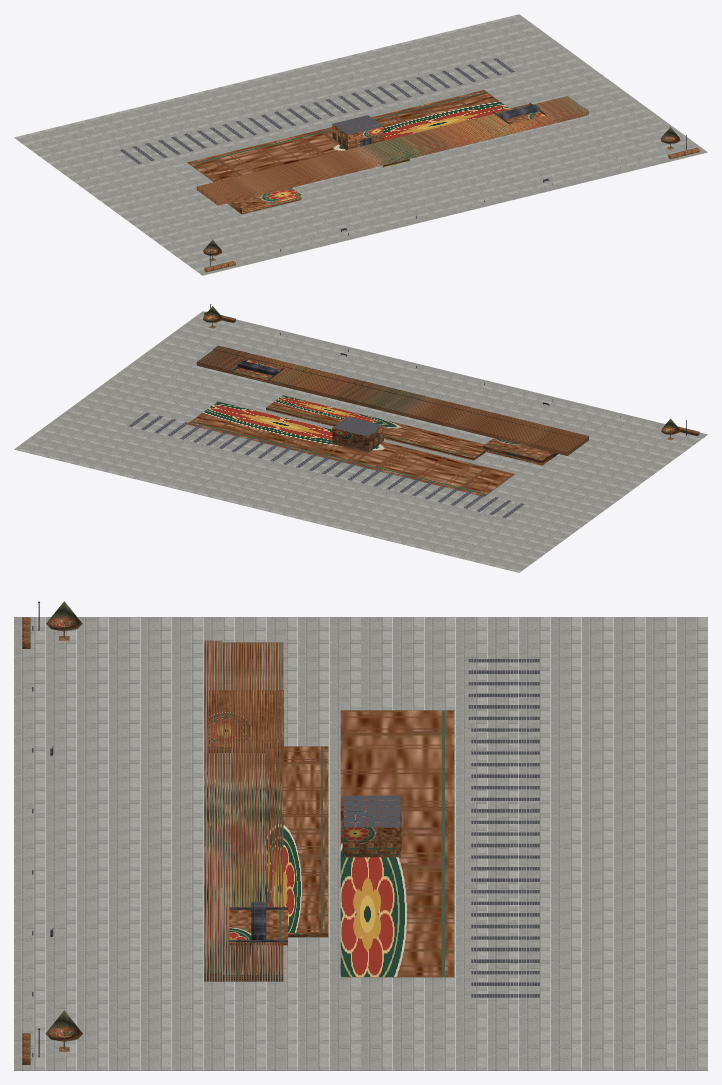
The picture shows the model from 3 angles, top to bottom: view 1: azimuth 30°, elevation 25°; view 2: azimuth 150°, elevation 25°; view 3: azimuth 270°, elevation 25°; orthographic projection. The views are drawn at different scales.
Visible parts, largest first — view 1: 11710_01_05547_046_01__plinth_ground_base, 11710_01_05547_046_02__mass_body_facade, 11710_01_05547_046_03__roof_deck_structure, 11710_01_05547_046_06__landscape_greenery; view 2: 11710_01_05547_046_01__plinth_ground_base, 11710_01_05547_046_02__mass_body_facade, 11710_01_05547_046_03__roof_deck_structure, 11710_01_05547_046_06__landscape_greenery; view 3: 11710_01_05547_046_01__plinth_ground_base, 11710_01_05547_046_02__mass_body_facade, 11710_01_05547_046_03__roof_deck_structure, 11710_01_05547_046_06__landscape_greenery, 11710_01_05547_046_03__roof_metal_ornament.
Part boxes in pixels (left/top/right/bottom): 11710_01_05547_046_01__plinth_ground_base: left=14, top=14, right=707, bottom=275; 11710_01_05547_046_02__mass_body_facade: left=187, top=90, right=588, bottom=214; 11710_01_05547_046_03__roof_deck_structure: left=119, top=58, right=514, bottom=164; 11710_01_05547_046_06__landscape_greenery: left=203, top=127, right=699, bottom=272; 11710_01_05547_046_01__plinth_ground_base: left=14, top=311, right=707, bottom=572; 11710_01_05547_046_02__mass_body_facade: left=188, top=345, right=588, bottom=496; 11710_01_05547_046_03__roof_deck_structure: left=128, top=412, right=524, bottom=518; 11710_01_05547_046_06__landscape_greenery: left=203, top=306, right=699, bottom=440; 11710_01_05547_046_01__plinth_ground_base: left=14, top=617, right=707, bottom=1070; 11710_01_05547_046_02__mass_body_facade: left=204, top=640, right=454, bottom=981; 11710_01_05547_046_03__roof_deck_structure: left=344, top=659, right=539, bottom=997; 11710_01_05547_046_06__landscape_greenery: left=22, top=601, right=82, bottom=1064; 11710_01_05547_046_03__roof_metal_ornament: left=229, top=902, right=287, bottom=945.
Size of the model in its own units: 170 by 7.5 by 110.
7 materials, 7 textured.
